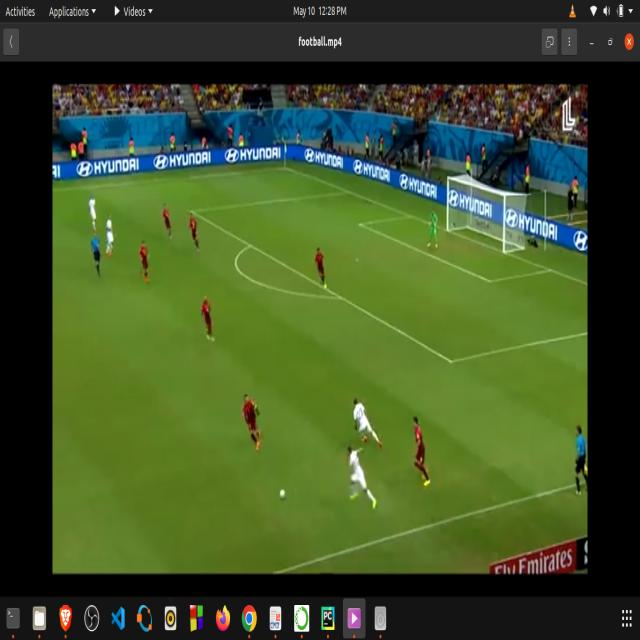Ball: (278, 483, 288, 506)
Goalkeeper: (425, 206, 442, 252)
Refree: (568, 421, 588, 496), (91, 232, 102, 280)
football-players: (346, 445, 379, 512), (351, 394, 386, 448), (412, 413, 434, 489), (242, 390, 264, 452), (200, 294, 219, 345), (314, 245, 332, 295), (188, 204, 204, 253), (104, 213, 118, 260), (138, 236, 152, 280), (88, 194, 101, 235), (163, 201, 176, 240)
